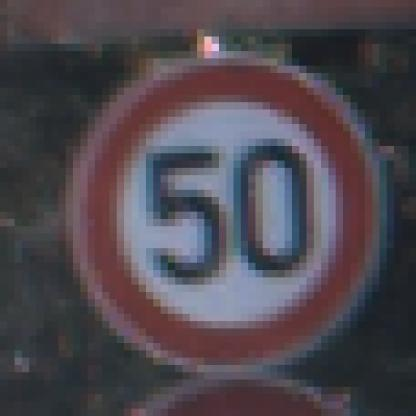Speed Limit 50: (80, 60, 370, 366)
